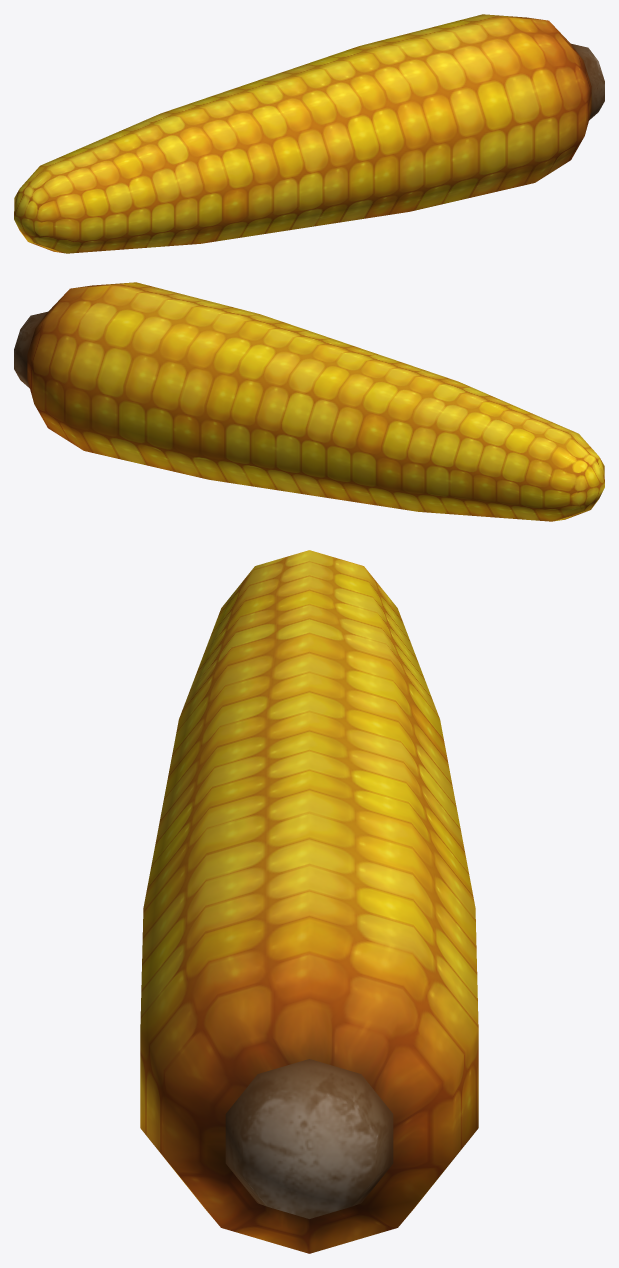
File: Corn_Yellow.fbx
3 views of the same model, one above another, from view 1: azimuth 30°, elevation 25°; view 2: azimuth 150°, elevation 25°; view 3: azimuth 270°, elevation 25° (orthographic). The views are drawn at different scales.
Parts seen in each view (by area): view 1: Corn_Yellow; view 2: Corn_Yellow; view 3: Corn_Yellow.
Part boxes in pixels (x1=…): Corn_Yellow: x1=14, y1=14, x2=604, y2=253; Corn_Yellow: x1=14, y1=282, x2=604, y2=521; Corn_Yellow: x1=140, y1=550, x2=478, y2=1253.
Bounding box in the file's own units: 94.94 × 25.17 × 23.94.
